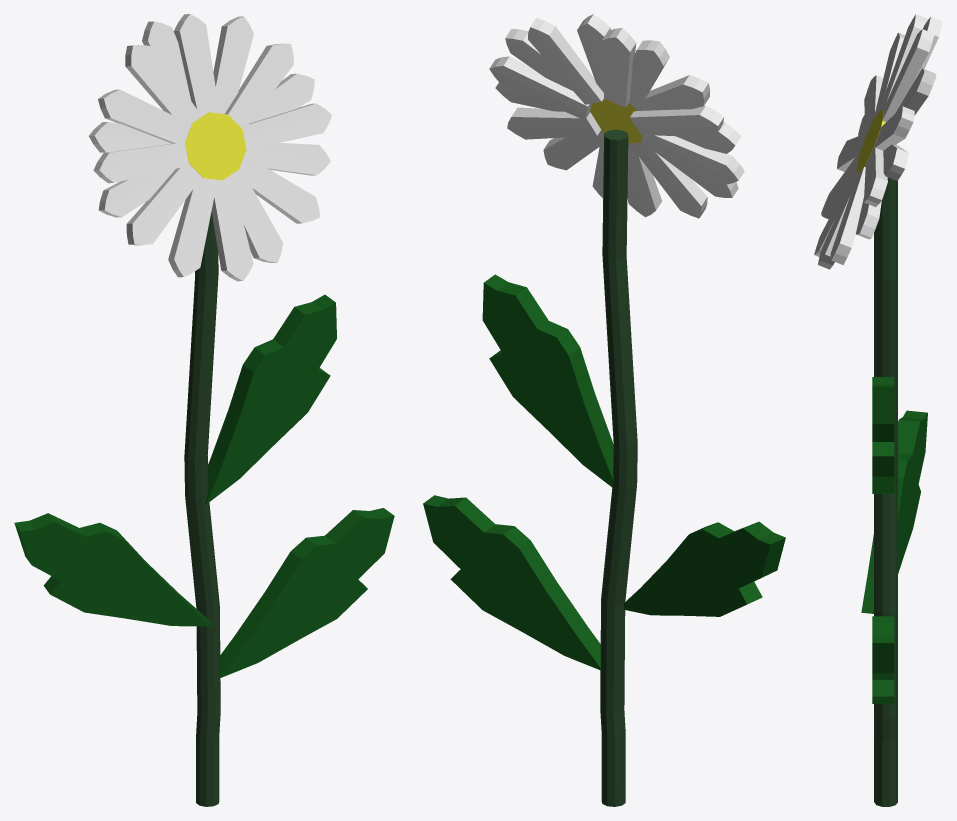
The model's file is Chamomile.fbx.
The picture shows the model from 3 angles, left to right: view 1: azimuth 30°, elevation 25°; view 2: azimuth 150°, elevation 25°; view 3: azimuth 270°, elevation 25°; orthographic projection. The views are drawn at different scales.
Parts seen in each view (by area): view 1: Stem, Leaf1, Leaf3, Leaf2, FlowerCenter, Petal11, Petal6, Petal10, Petal7, Petal5, Petal8, Petal (+10 smaller); view 2: Stem, Leaf1, Leaf3, Leaf2, Petal15, Petal14, Petal1, Petal12, Petal13, Petal16, Petal11, Petal8 (+8 smaller); view 3: Stem, Leaf2, Leaf3, Leaf1, Petal6, Petal3, Petal4, Petal5, Petal7, Petal15, Petal2, Petal14 (+8 smaller).
Boxes of the visible parts, x1,y1,x2,y2 form: Stem: (184,211,220,806); Leaf1: (219,508,394,677); Leaf3: (205,294,336,504); Leaf2: (14,513,212,626); FlowerCenter: (185,112,246,180); Petal11: (168,177,217,277); Petal6: (173,14,219,117); Petal10: (126,165,201,245); Petal7: (125,45,199,124); Petal5: (225,43,293,128); Petal8: (98,89,191,143); Petal: (211,180,253,281); Stem: (600,129,637,806); Leaf1: (423,495,600,670); Leaf3: (482,274,613,487); Leaf2: (624,521,785,616); Petal15: (528,18,603,104); Petal14: (489,56,591,118); Petal1: (642,135,744,184); Petal12: (630,105,724,137); Petal13: (507,107,601,139); Petal16: (602,28,636,107); Petal11: (629,142,707,218); Petal8: (631,75,709,110); Stem: (874,177,897,806); Leaf2: (861,410,927,613); Leaf3: (872,377,894,493); Leaf1: (872,616,894,703); Petal6: (882,29,934,121); Petal3: (830,167,865,265); Petal4: (863,146,887,207); Petal5: (875,106,914,150); Petal7: (881,14,927,110); Petal15: (896,68,936,115); Petal2: (818,171,858,269); Petal14: (883,144,908,180).
Bounding box in the file's own units: 230 × 477 × 72.05.
